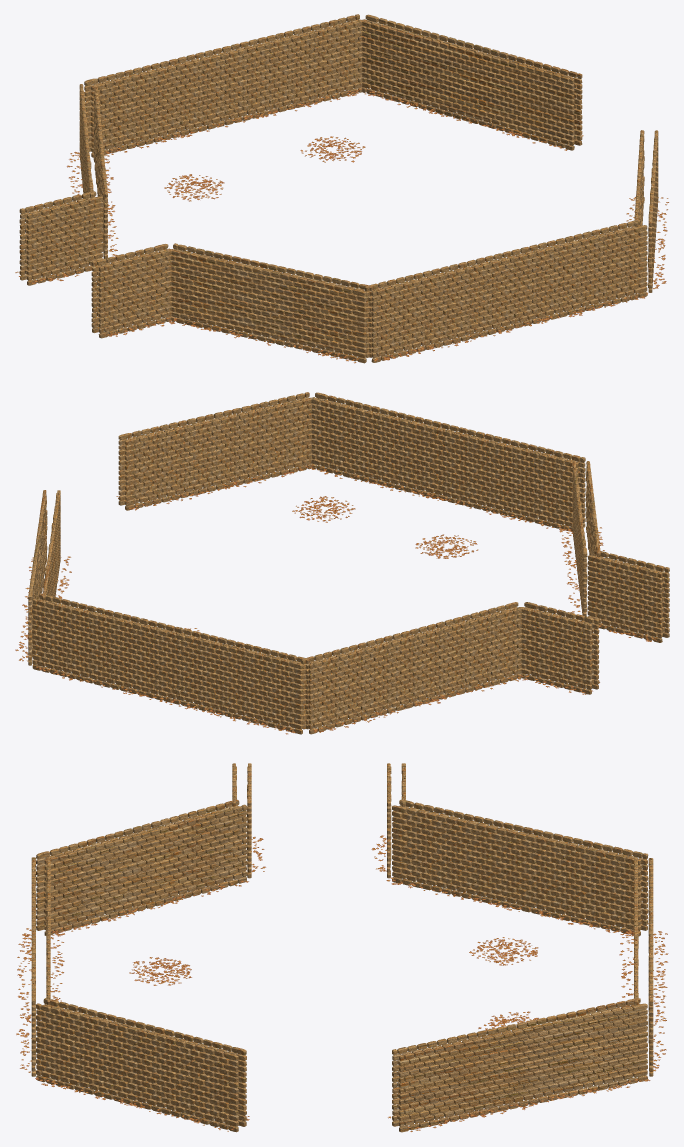
File: AutumnDetailRoom04.fbx
3 renders of one model, top to bottom at view 1: azimuth 30°, elevation 25°; view 2: azimuth 150°, elevation 25°; view 3: azimuth 270°, elevation 25°, orthographic. The views are drawn at different scales.
Visible parts, largest first — view 1: R04_AutumnStonework_LOD0, R04_AutumnLeafDrifts_LOD0; view 2: R04_AutumnStonework_LOD0, R04_AutumnLeafDrifts_LOD0; view 3: R04_AutumnStonework_LOD0, R04_AutumnLeafDrifts_LOD0.
Boxes of the visible parts, x1=… form: R04_AutumnStonework_LOD0: x1=19, y1=14, x2=658, y2=363; R04_AutumnLeafDrifts_LOD0: x1=15, y1=89, x2=668, y2=363; R04_AutumnStonework_LOD0: x1=28, y1=392, x2=669, y2=734; R04_AutumnLeafDrifts_LOD0: x1=15, y1=465, x2=664, y2=734; R04_AutumnStonework_LOD0: x1=31, y1=763, x2=653, y2=1132; R04_AutumnLeafDrifts_LOD0: x1=16, y1=835, x2=668, y2=1131.
Size of what is drawn, in the model's own units: 45.8 by 5.47 by 42.47.
